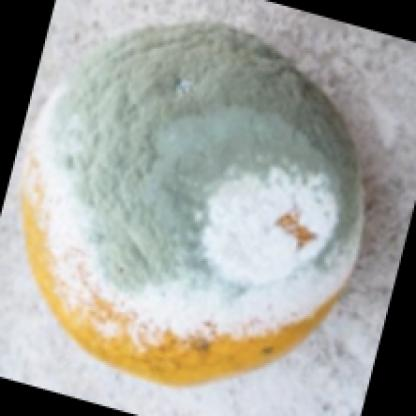rotten: (16, 21, 364, 390)
